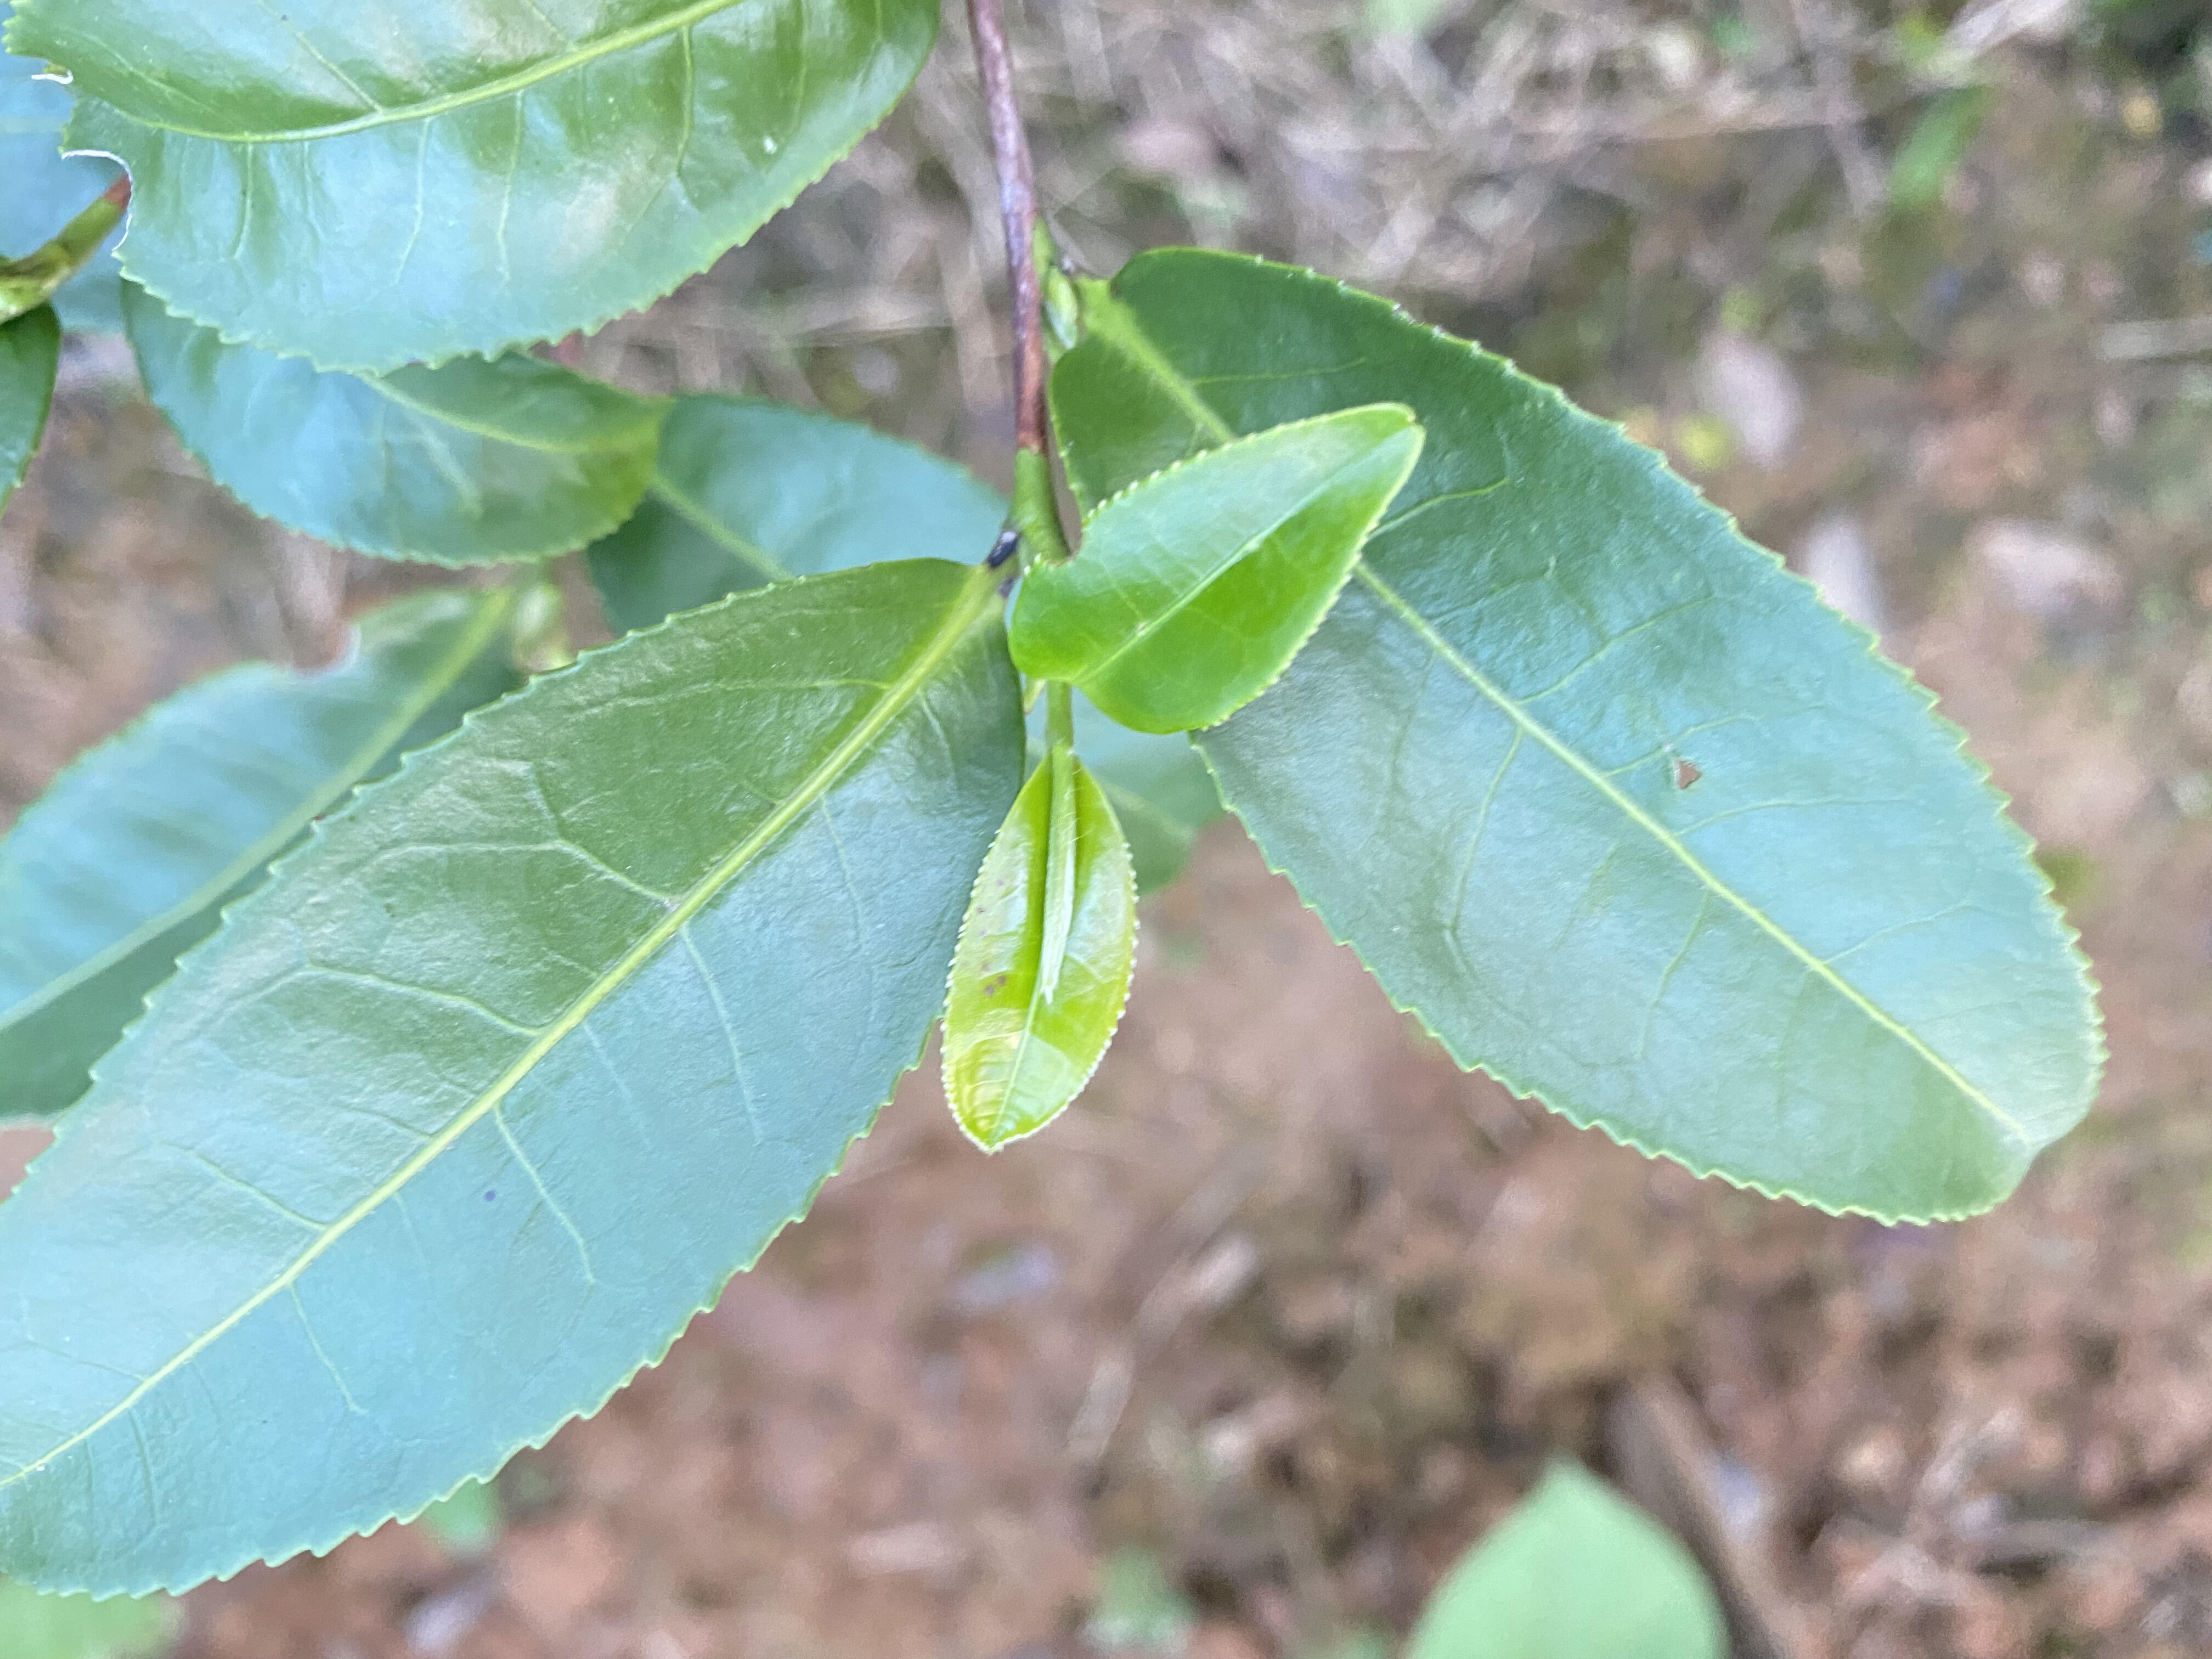chihuo_high: (3, 2, 942, 375)
chihuo_low: (1047, 244, 2109, 1222), (1010, 401, 1425, 741)
healthy: (3, 558, 1028, 1605)
tanju_low: (939, 756, 1141, 1152)
